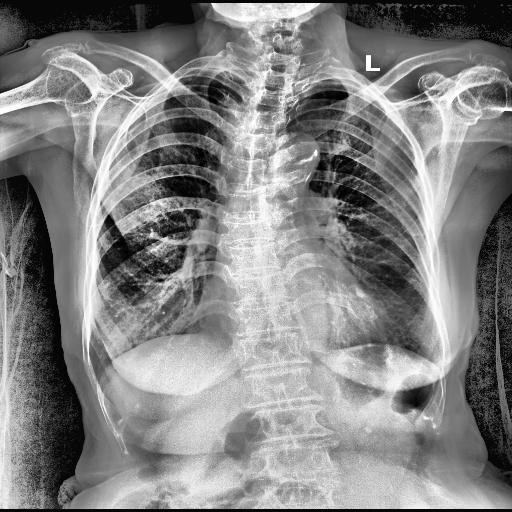0- Aortic enlargement: (268, 131, 319, 190), (270, 132, 318, 190), (279, 132, 319, 174)
3- Cardiomegaly: (198, 286, 386, 354), (195, 292, 390, 342)
